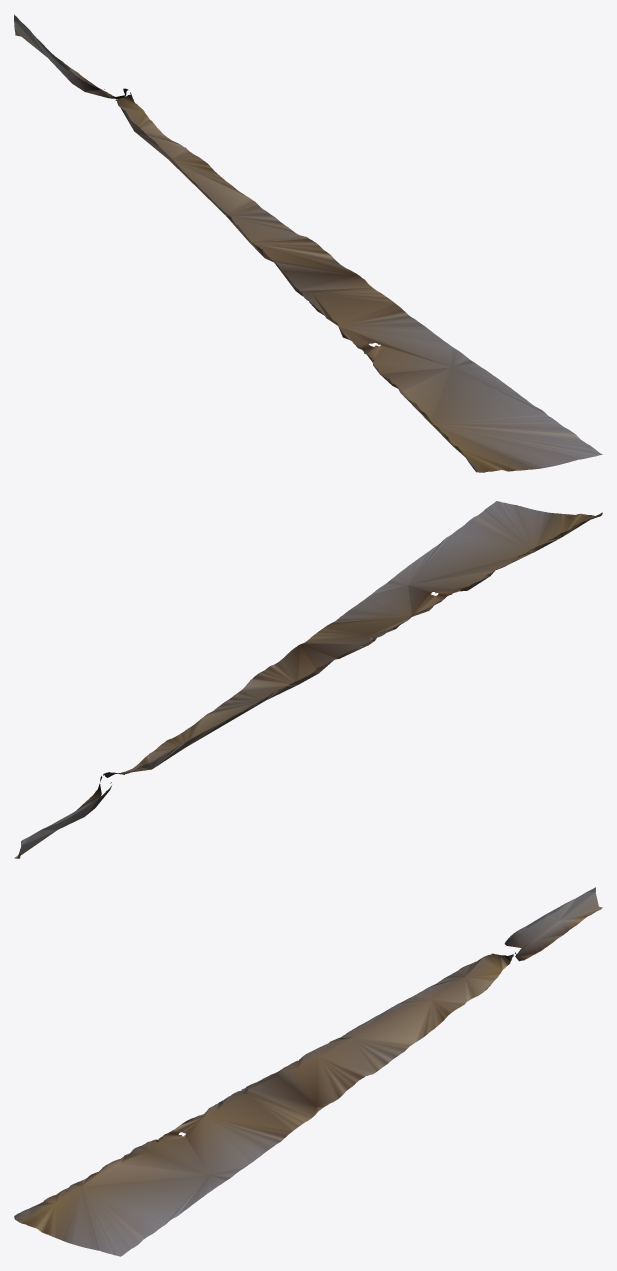
The model's file is coarse.glb.
3 renders of one model, top to bottom at view 1: azimuth 30°, elevation 25°; view 2: azimuth 150°, elevation 25°; view 3: azimuth 330°, elevation 25°, orthographic. The views are drawn at different scales.
Size of the model in its own units: 0.4591 by 0.0787 by 3.6.
